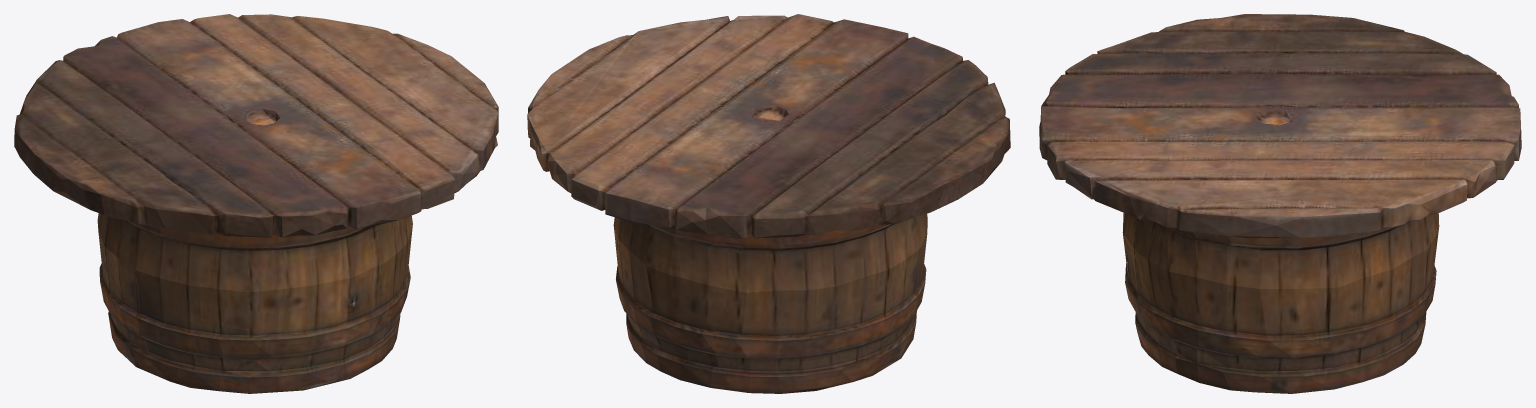
The model's file is table_barrel_top_lod0.glb.
3 views of the same model, side by side, from view 1: azimuth 30°, elevation 25°; view 2: azimuth 150°, elevation 25°; view 3: azimuth 270°, elevation 25° (orthographic).
Parts seen in each view (by area): view 1: table_barrel_top_lod0; view 2: table_barrel_top_lod0; view 3: table_barrel_top_lod0.
Part boxes in pixels (x1,y1,x2,y2): table_barrel_top_lod0: [14, 14, 498, 393]; table_barrel_top_lod0: [527, 14, 1010, 393]; table_barrel_top_lod0: [1039, 14, 1521, 393].
Bounding box in the file's own units: 0.9986 × 0.5044 × 0.9977.
Materials: 1 (1 with a texture image).
